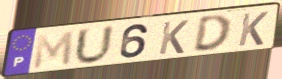6: (119, 23, 150, 61)
D: (191, 13, 233, 53)
K: (236, 10, 271, 48), (157, 19, 191, 56)
M: (32, 30, 76, 71)
U: (72, 24, 117, 67)
